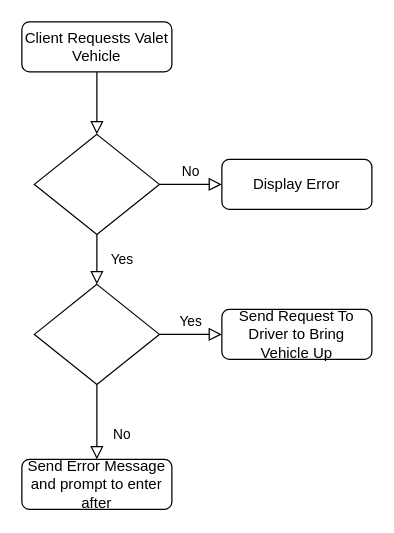
This 394x533 diagram has some shape labels left out. Here are the shapes that lost their labels. From the top down, the centre of each, then its label:
At point 96,183: "Vehicle Ticket In the system?".
At point 96,333: "Vehicle/driver ready to bring it up".
